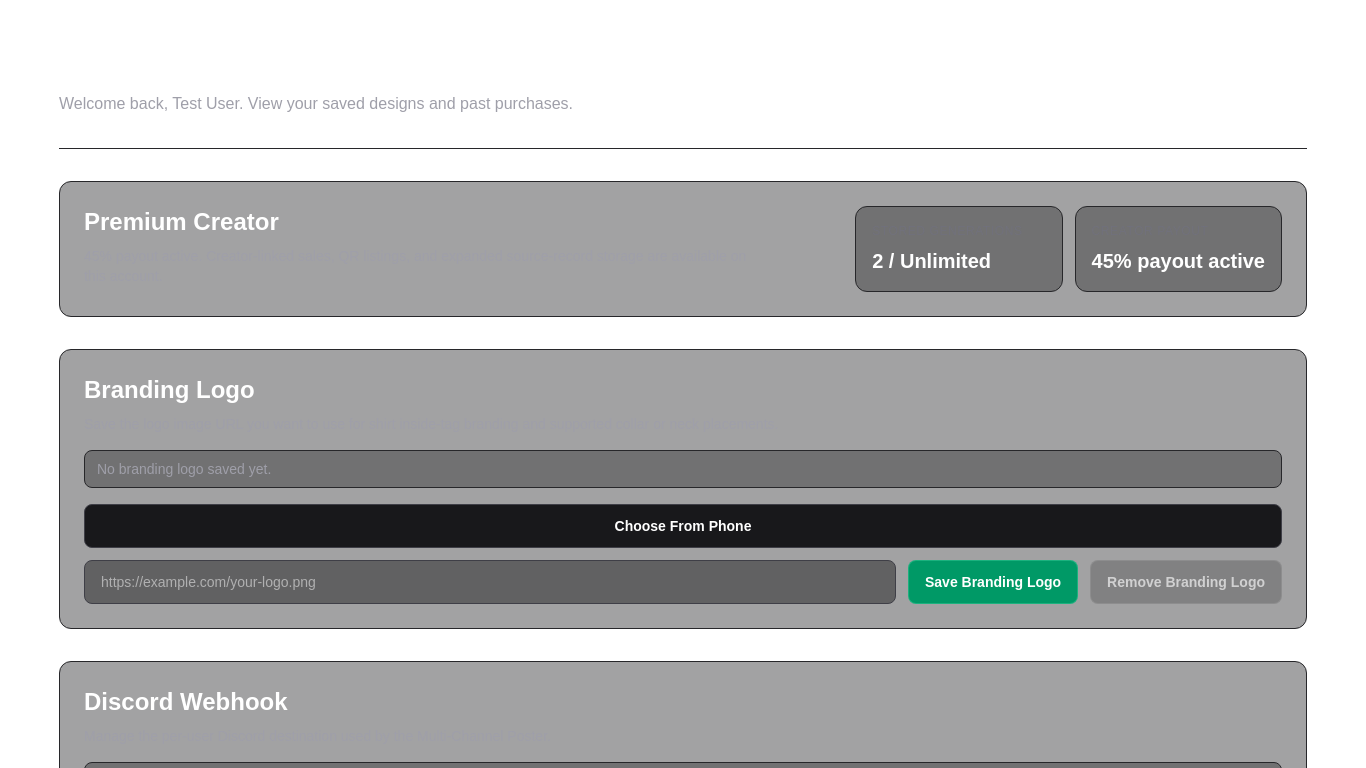
Test case: ProfilePage › saves a branding logo url for inside-tag and collar use
Expected: the heading "Branding Logo" is shown, [84,376,255,403]
Type "https://cdn.example.com/logo.png" into the field with placeholder "https://example.com/your-logo.png" at (490, 582), box [84,560,896,604]
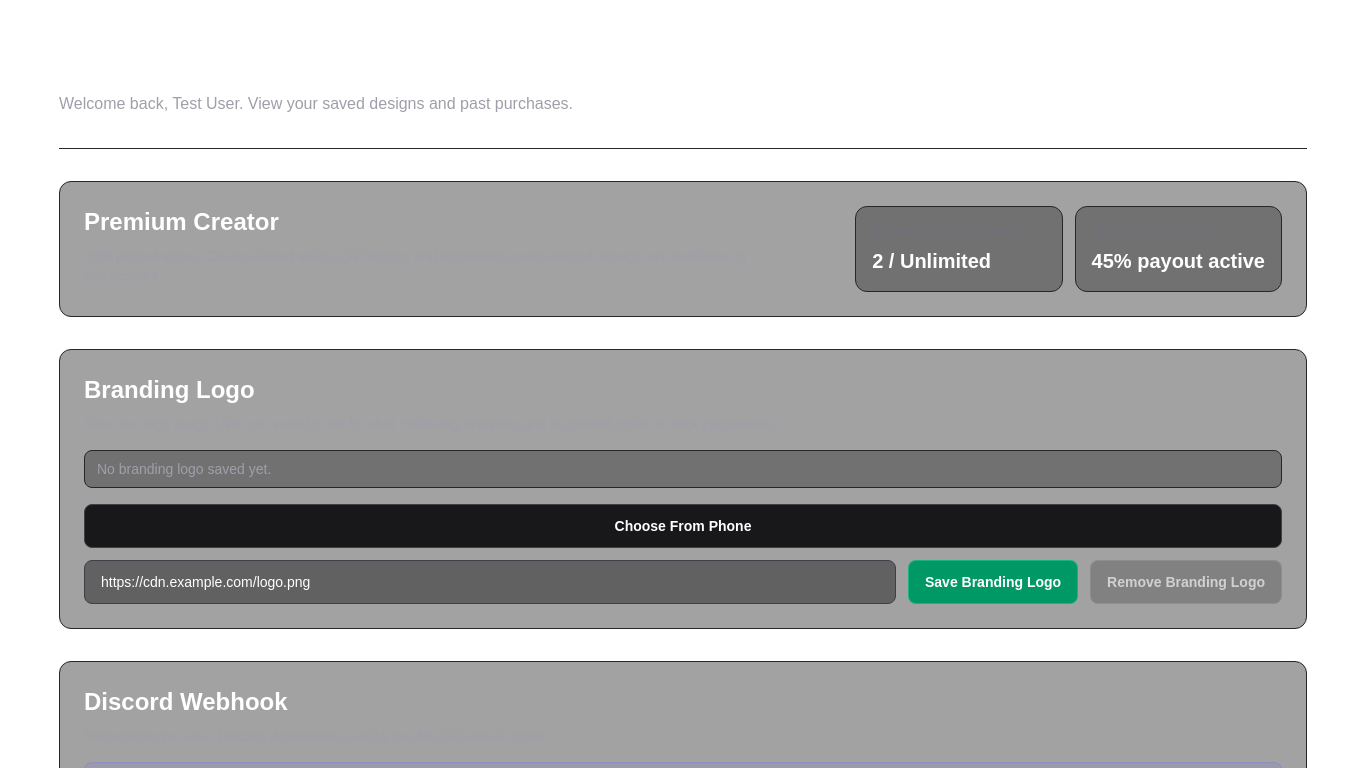
Click the button "Save Branding Logo" at (993, 582), box [908,560,1078,604]
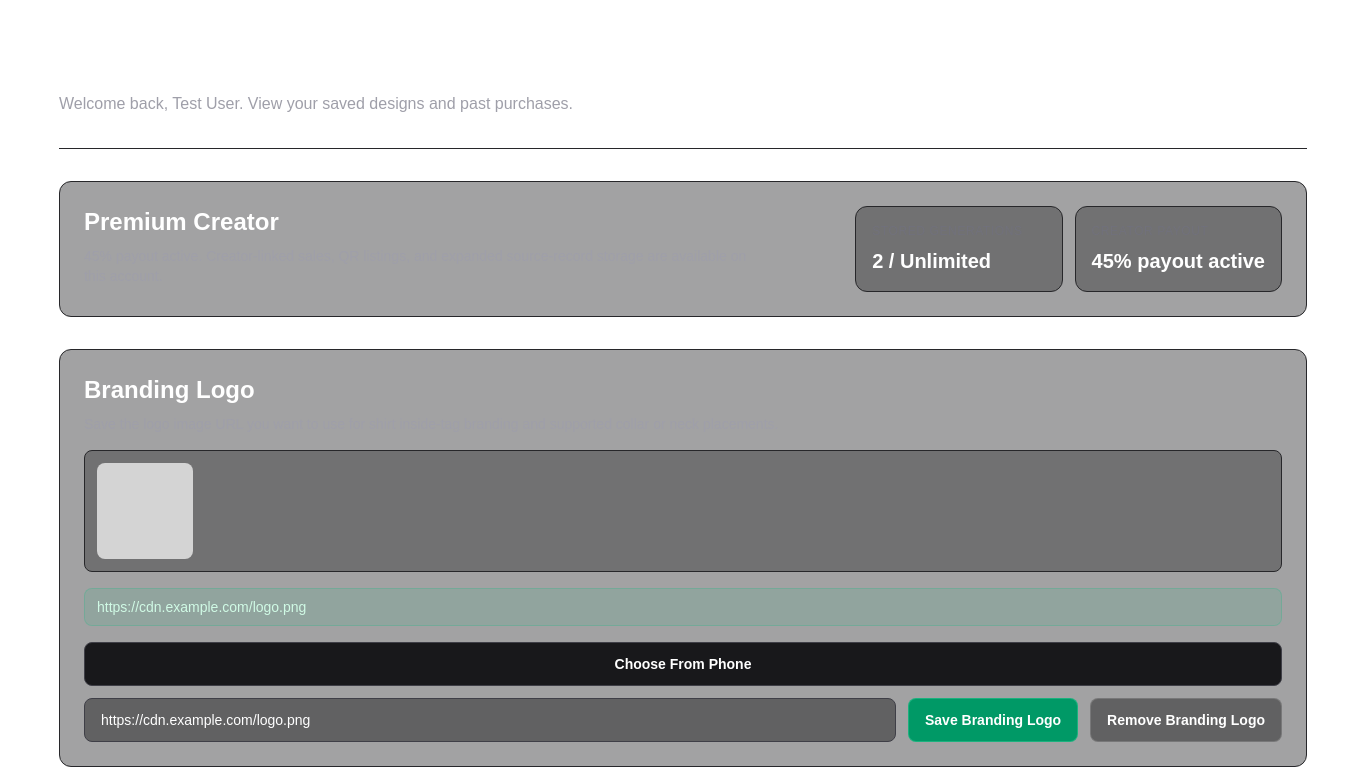
Result: the text "https://cdn.example.com/logo.png" is shown at [84,588,1282,626]
